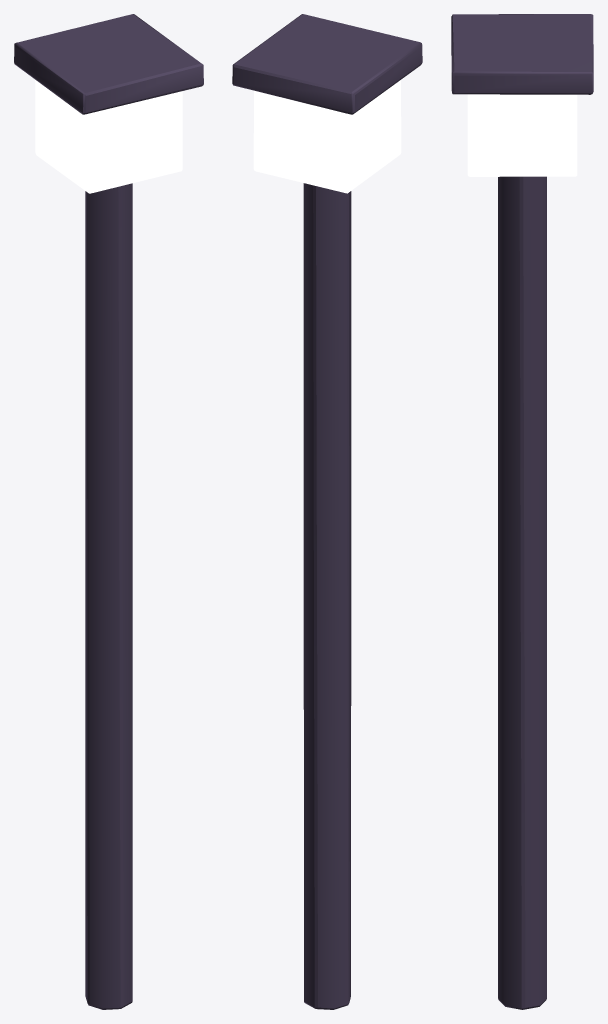
The model's file is SM_Labor_Lamp_LOD1.fbx.
3 views of the same model, side by side, from view 1: azimuth 30°, elevation 25°; view 2: azimuth 150°, elevation 25°; view 3: azimuth 270°, elevation 25° (orthographic).
Parts seen in each view (by area): view 1: SM_Labor_Lamp_LOD1; view 2: SM_Labor_Lamp_LOD1; view 3: SM_Labor_Lamp_LOD1.
Boxes of the visible parts, bbox=[...] form: SM_Labor_Lamp_LOD1: bbox=[14, 14, 203, 1009]; SM_Labor_Lamp_LOD1: bbox=[232, 14, 422, 1009]; SM_Labor_Lamp_LOD1: bbox=[451, 14, 593, 1009].
Size of the model in its own units: 0.45 by 3.34 by 0.45.
